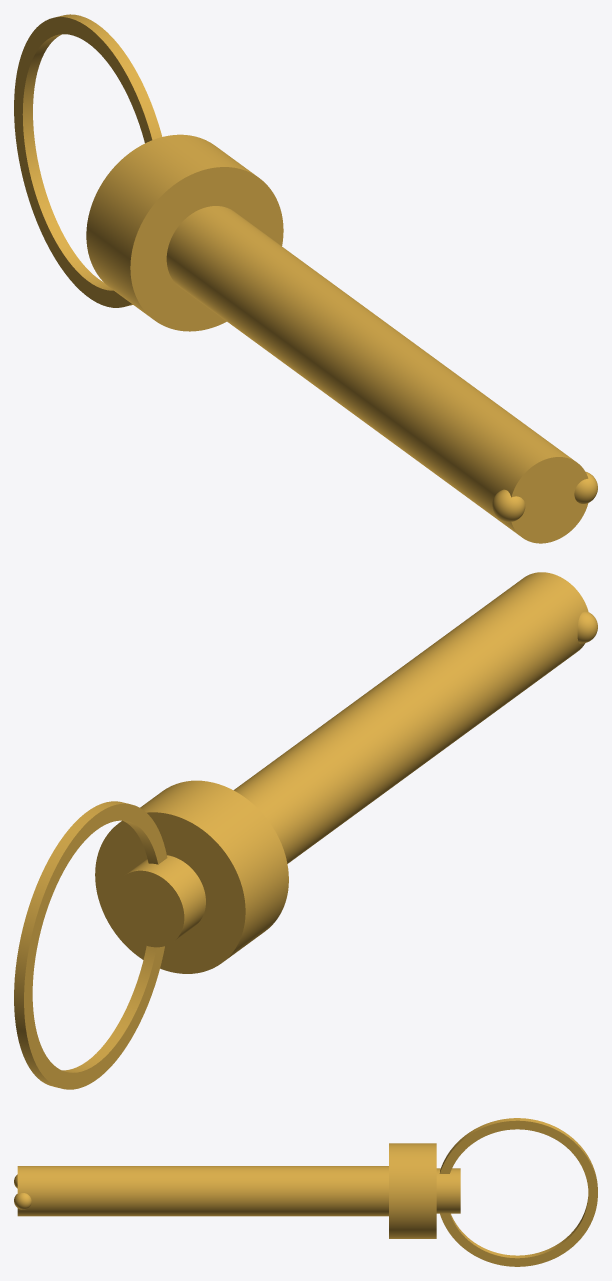
File: 08_pasador_pata_3-8.glb
The picture shows the model from 3 angles, top to bottom: view 1: azimuth 30°, elevation 25°; view 2: azimuth 150°, elevation 25°; view 3: azimuth 270°, elevation 25°; orthographic projection. The views are drawn at different scales.
Parts seen in each view (by area): view 1: 08_pasador_pata_3-8; view 2: 08_pasador_pata_3-8; view 3: 08_pasador_pata_3-8.
Boxes of the visible parts, box(x1,y1,x2,y2) form: 08_pasador_pata_3-8: box(14, 14, 597, 543); 08_pasador_pata_3-8: box(14, 572, 597, 1089); 08_pasador_pata_3-8: box(14, 1118, 597, 1266).
Bounding box in the file's own units: 18.05 × 30.39 × 110.
